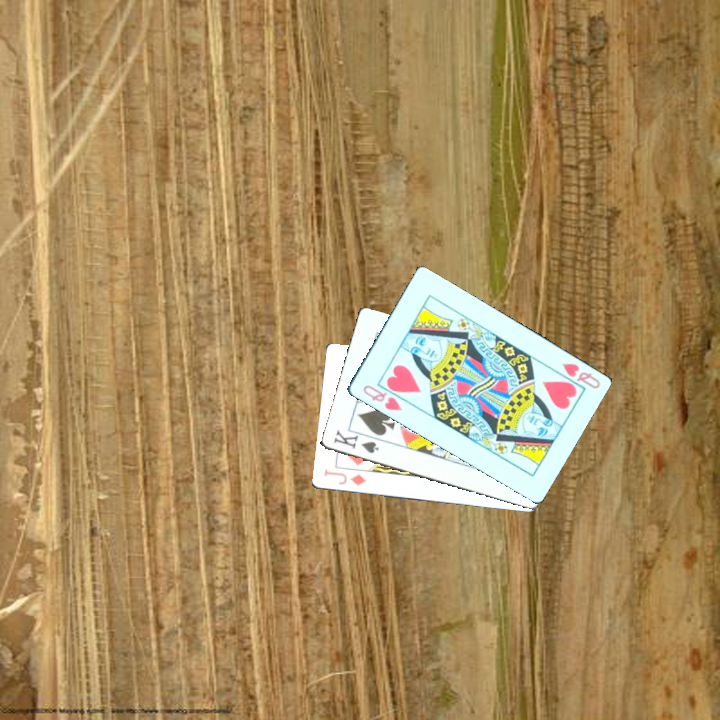Jd: (320, 465, 369, 488)
Ks: (330, 426, 381, 456)
Qh: (547, 359, 603, 394), (359, 380, 404, 413)
